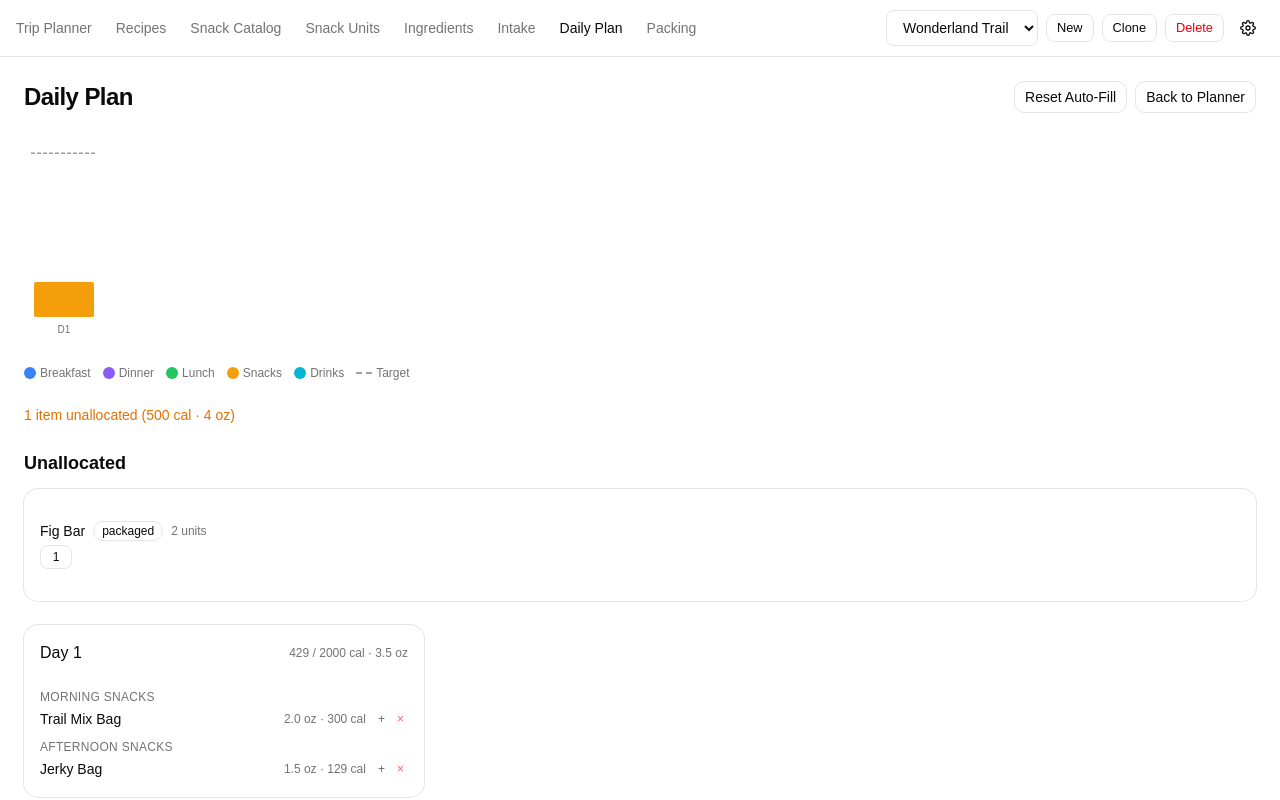
DailyPlanPage snack units › an unallocated unit is measured in units and assigns to a day
Expected: the text "2 units" is shown, x1=171 y1=523 x2=207 y2=539
Step 1. Click the button named "Assign Fig Bar to day 1" → [56, 557], box x1=40 y1=545 x2=72 y2=569
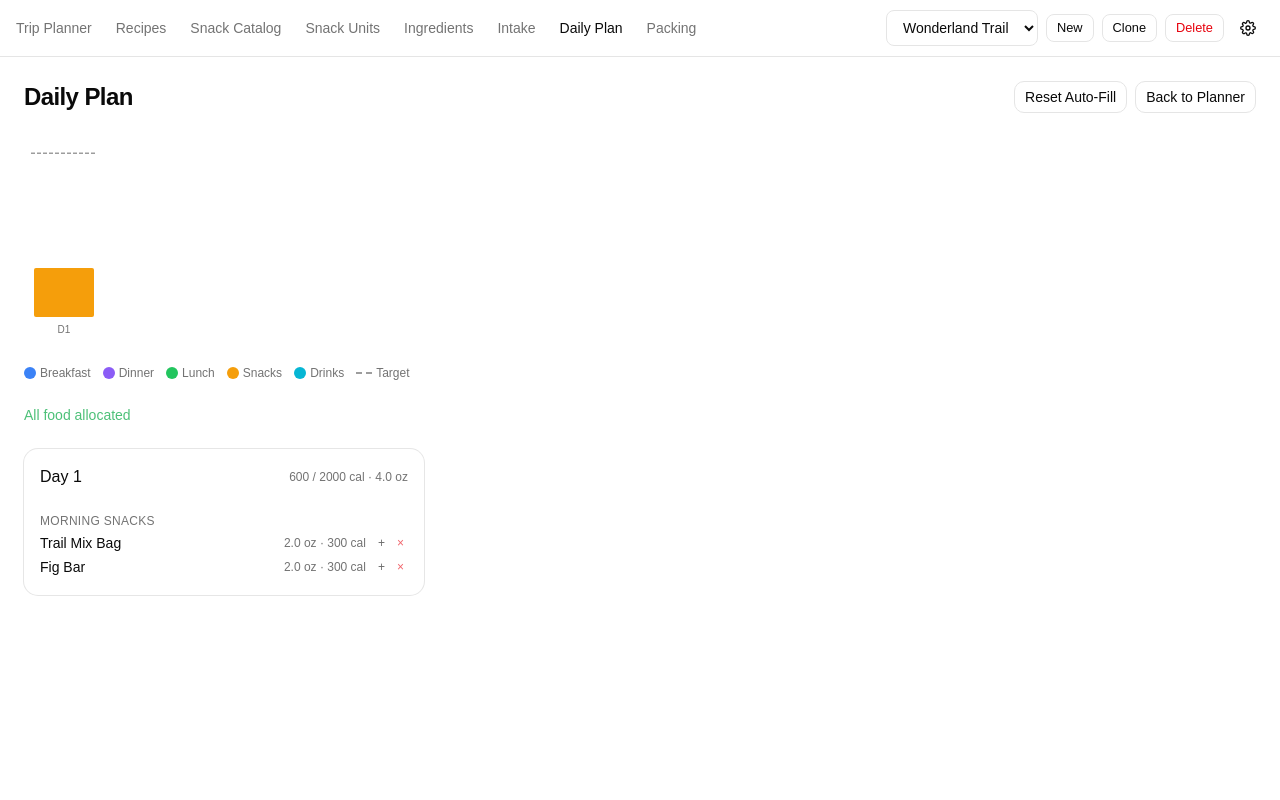
Now the button named "Add unit of Fig Bar" is shown, box x1=374 y1=559 x2=389 y2=575
